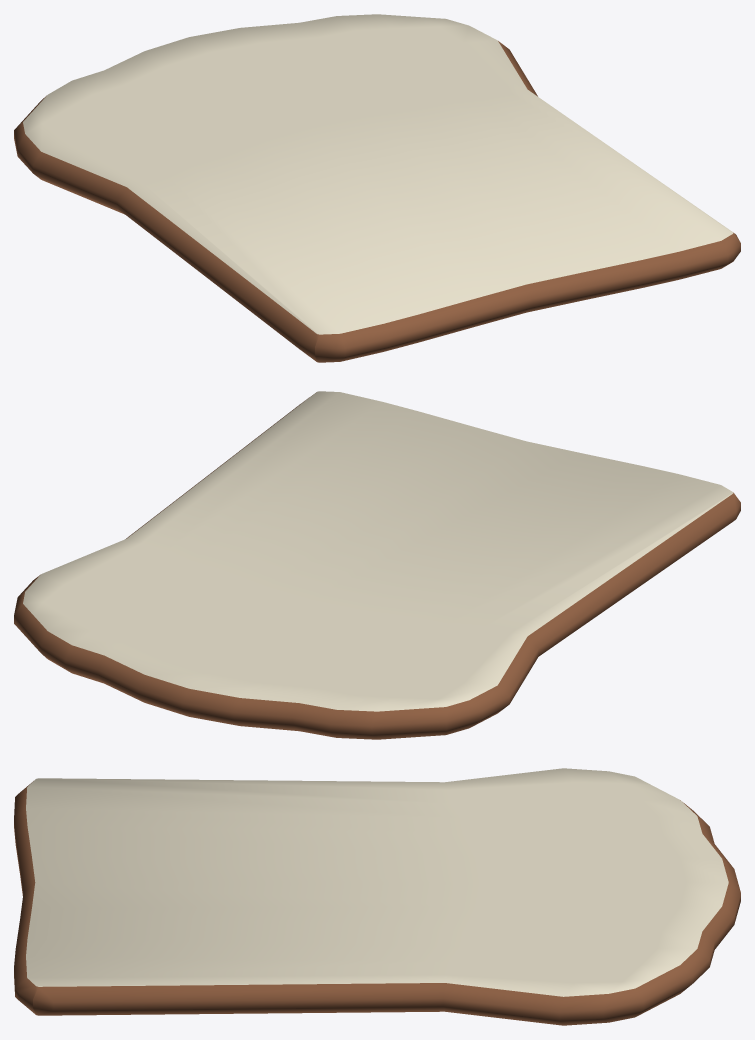
The model's file is Single.fbx.
The picture shows the model from 3 angles, top to bottom: view 1: azimuth 30°, elevation 25°; view 2: azimuth 150°, elevation 25°; view 3: azimuth 270°, elevation 25°; orthographic projection. The views are drawn at different scales.
Parts seen in each view (by area): view 1: Bread; view 2: Bread; view 3: Bread.
Part boxes in pixels (x1,y1,x2,y2): Bread: [14, 14, 740, 362]; Bread: [14, 391, 740, 739]; Bread: [14, 768, 740, 1025].
Bounding box in the file's own units: 246 × 13.87 × 317.
1 material, 1 textured.
